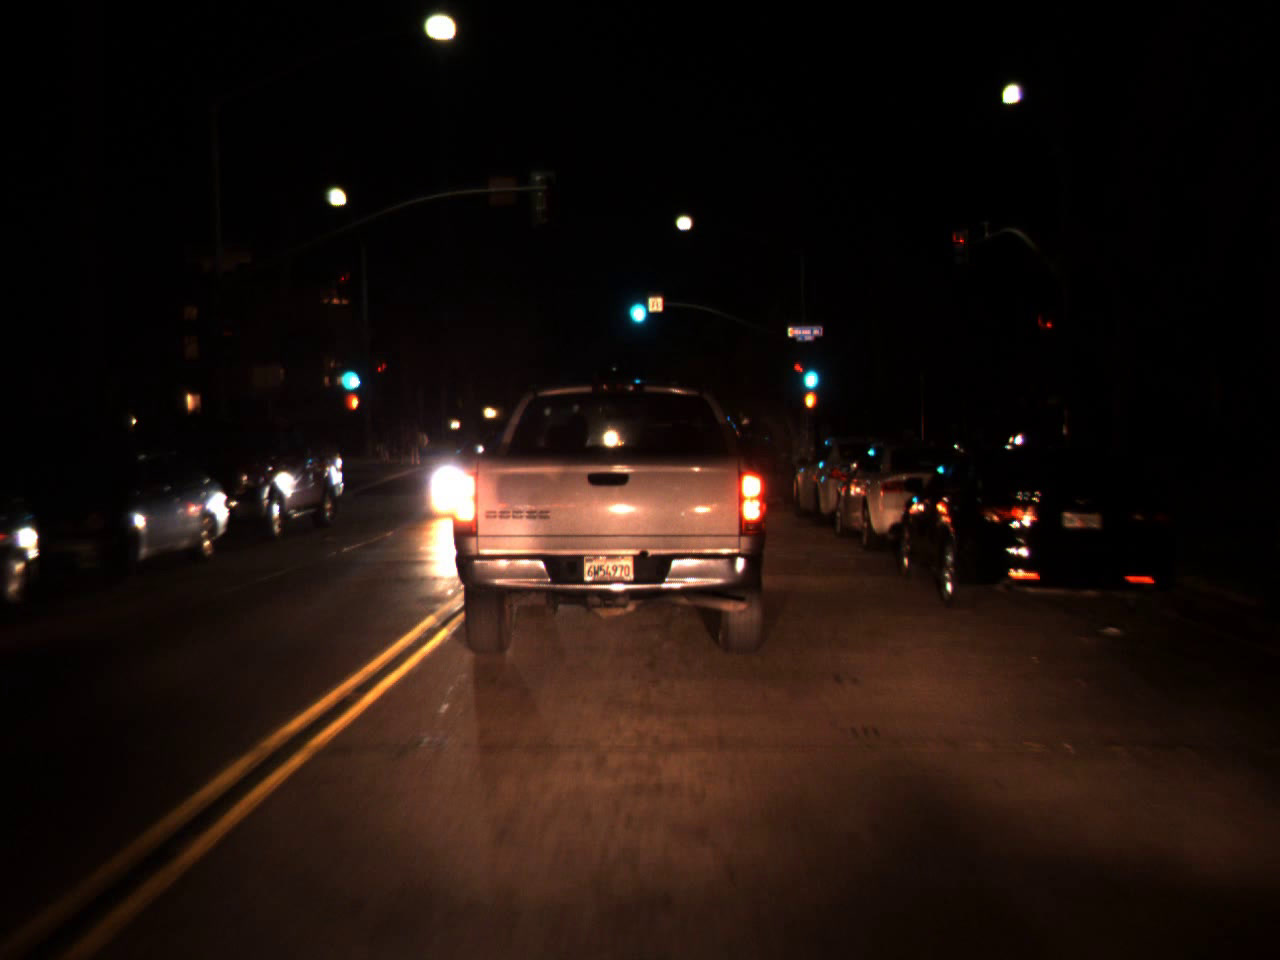go: (334, 346, 362, 397), (623, 279, 650, 330), (798, 348, 821, 396)
